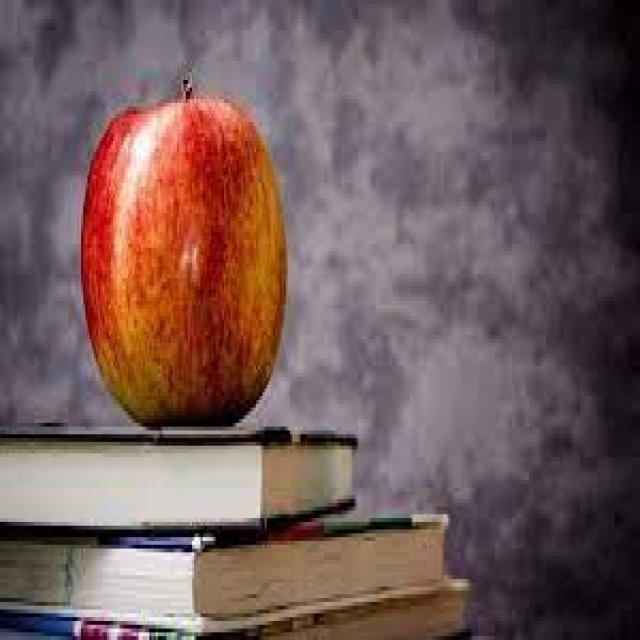Fresh Apple: (78, 85, 307, 437)
